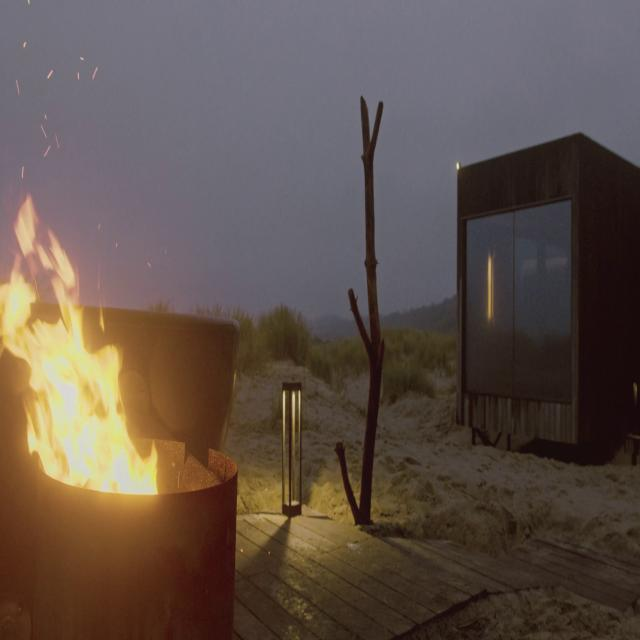Fire: (0, 172, 160, 500)
